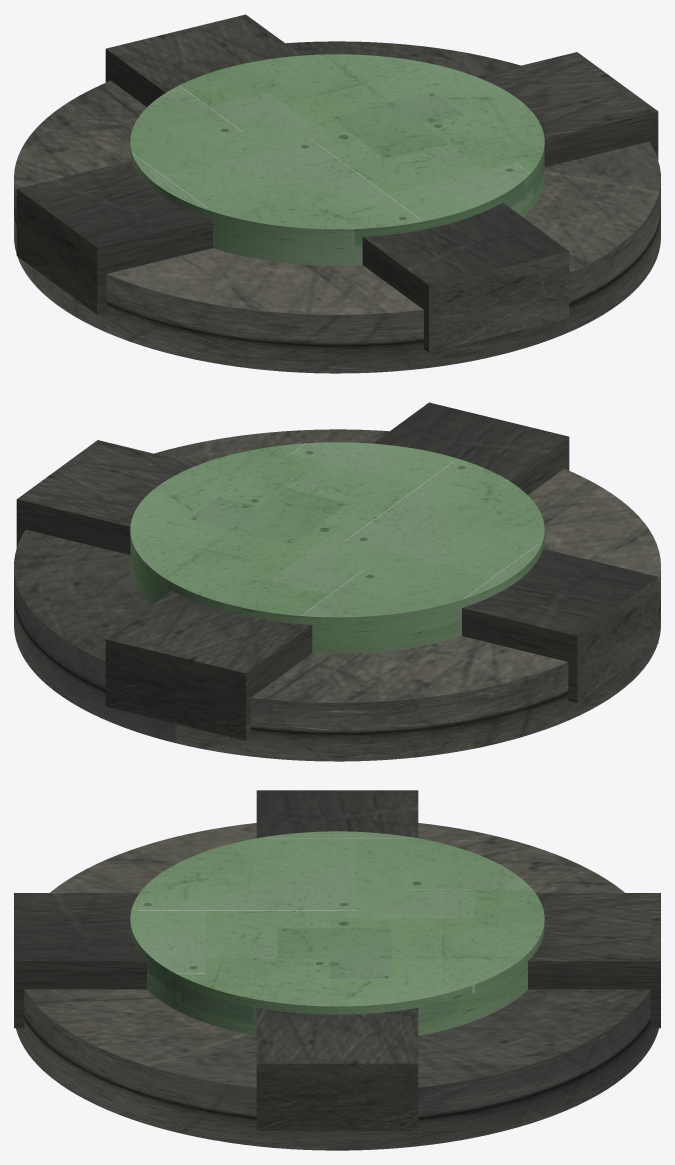
File: endPlate.dae
3 views of the same model, one above another, from view 1: azimuth 30°, elevation 25°; view 2: azimuth 150°, elevation 25°; view 3: azimuth 270°, elevation 25° (orthographic).
Visible parts, largest first — view 1: Cylinder.001, Cylinder, Cube.001, Cube; view 2: Cylinder.001, Cylinder, Cube.001, Cube; view 3: Cylinder.001, Cylinder, Cube, Cube.001.
Part boxes in pixels (left/top/right/bottom): Cylinder.001: left=130, top=54, right=544, bottom=265; Cylinder: left=14, top=41, right=660, bottom=373; Cube.001: left=105, top=14, right=569, bottom=352; Cube: left=16, top=52, right=658, bottom=314; Cylinder.001: left=130, top=442, right=544, bottom=653; Cylinder: left=14, top=429, right=660, bottom=761; Cube.001: left=105, top=402, right=569, bottom=740; Cube: left=16, top=440, right=658, bottom=702; Cylinder.001: left=130, top=831, right=544, bottom=1035; Cylinder: left=16, top=823, right=658, bottom=1150; Cube: left=256, top=790, right=418, bottom=1130; Cube.001: left=14, top=893, right=660, bottom=1028.
Size of the model in its own units: 2 by 2 by 0.3238.
3 materials, 3 textured.
